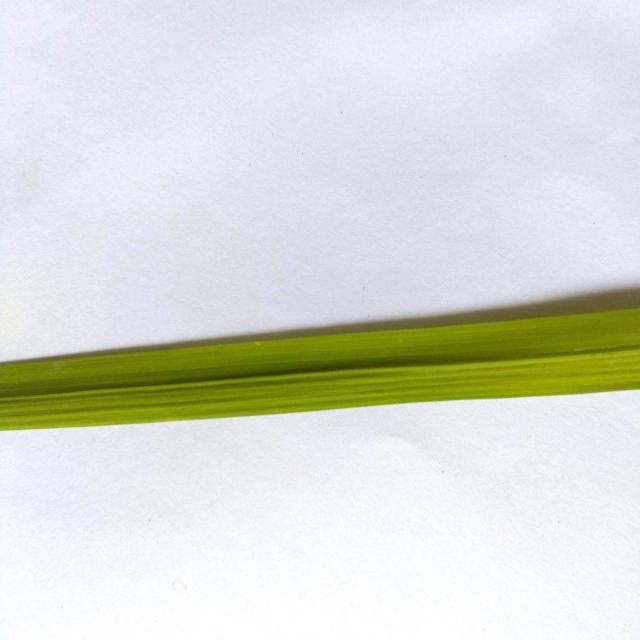healthy: (0, 248, 640, 467)
